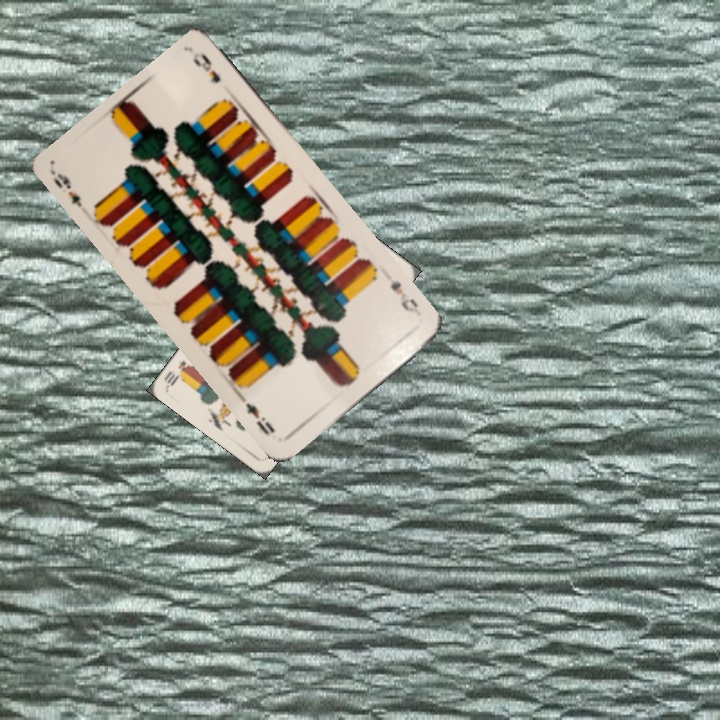E9: (386, 276, 425, 320), (49, 168, 85, 210)
